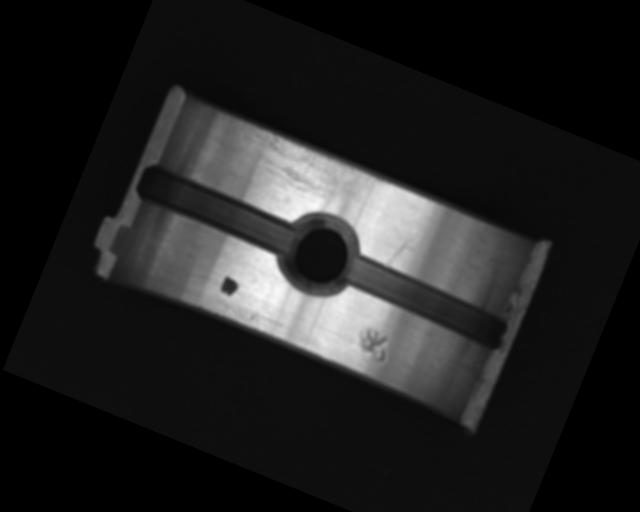blot: (217, 274, 241, 298)
bruise: (352, 325, 394, 363)
gap: (336, 249, 514, 356), (132, 160, 300, 259)
hole: (270, 203, 370, 306)
nick: (382, 218, 423, 274)
scratch: (225, 118, 389, 225)
